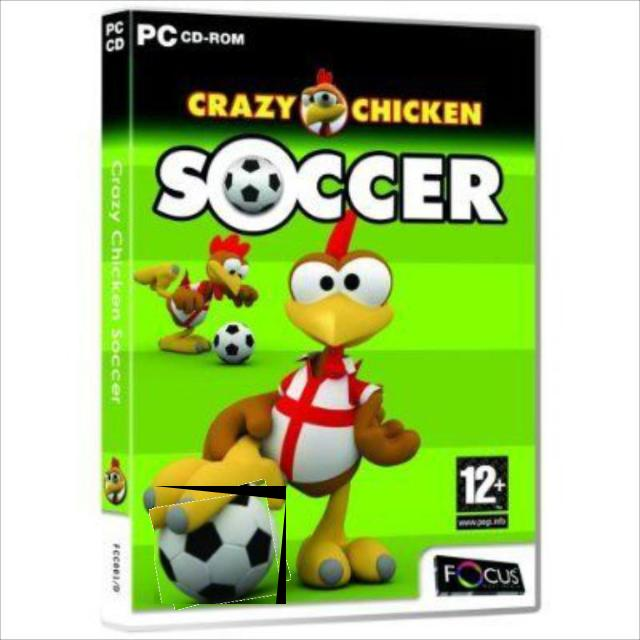Football: (154, 486, 286, 604)
